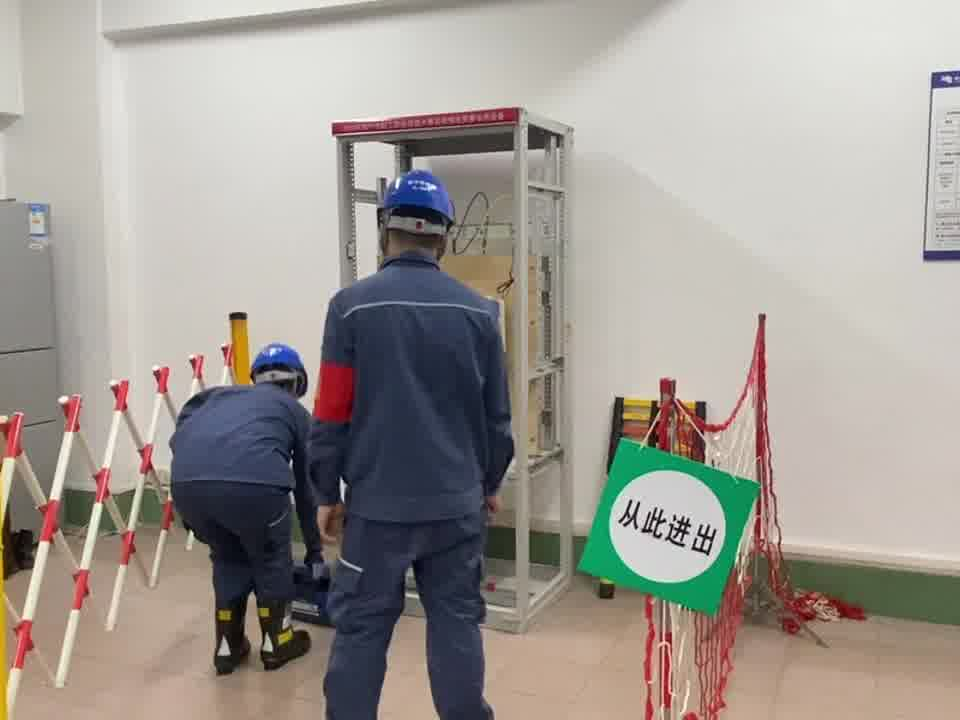badge: (312, 363, 359, 426)
downsuit: (317, 528, 504, 720), (171, 488, 297, 603)
halt: (374, 168, 459, 261), (249, 342, 311, 395)
hand: (314, 503, 346, 542)
intosign: (575, 434, 762, 616)
person: (306, 163, 526, 720), (167, 340, 322, 676)
shoe: (256, 602, 313, 669), (208, 606, 257, 673)
upsuit: (312, 259, 515, 517), (166, 382, 308, 493)
